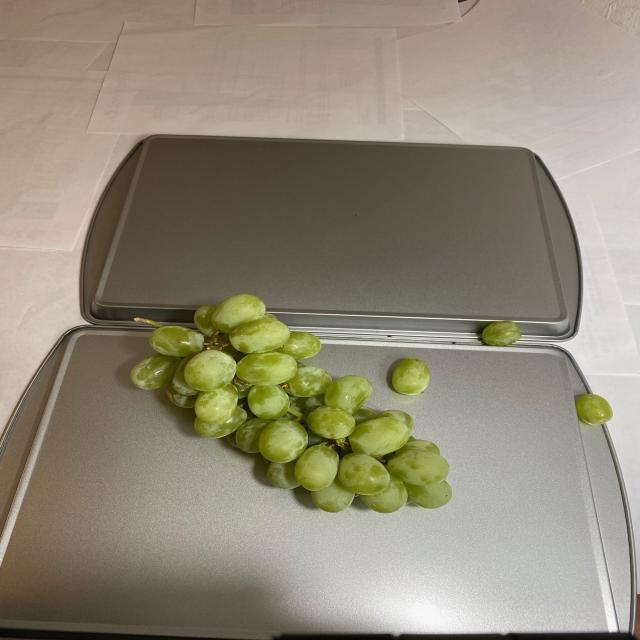grapes: (111, 297, 521, 517), (562, 387, 615, 438)
